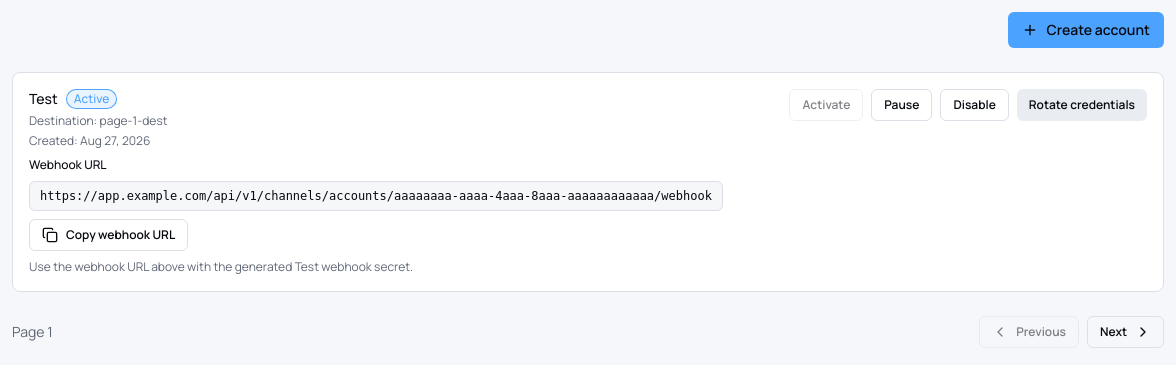
it: ChannelAccountsClient › paginates using the existing list metadata
The image size is (1176, 365).
Expected: the text "Destination: page-1-dest" is shown, [29, 112, 168, 129]
Click the button with aria-label "Next page" at [1126, 332], box [1087, 316, 1164, 348]
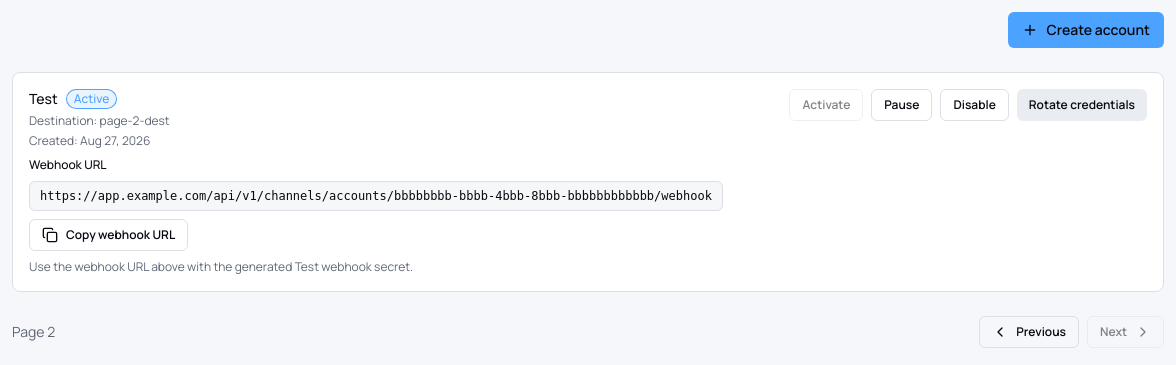
Result: the text "Destination: page-2-dest" is shown at [29, 112, 170, 129]
Click the button with aria-label "Previous page" at [1029, 332], box [979, 316, 1079, 348]
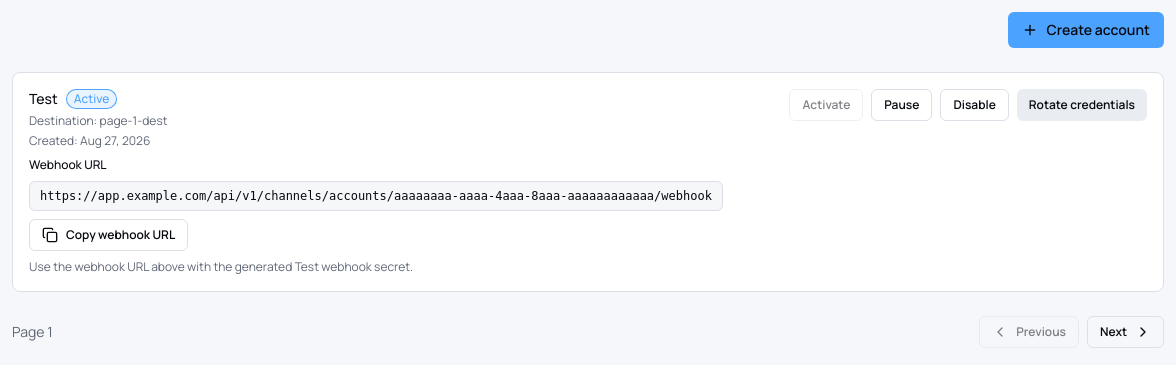
Result: the text "Destination: page-1-dest" is shown at [29, 112, 168, 129]
